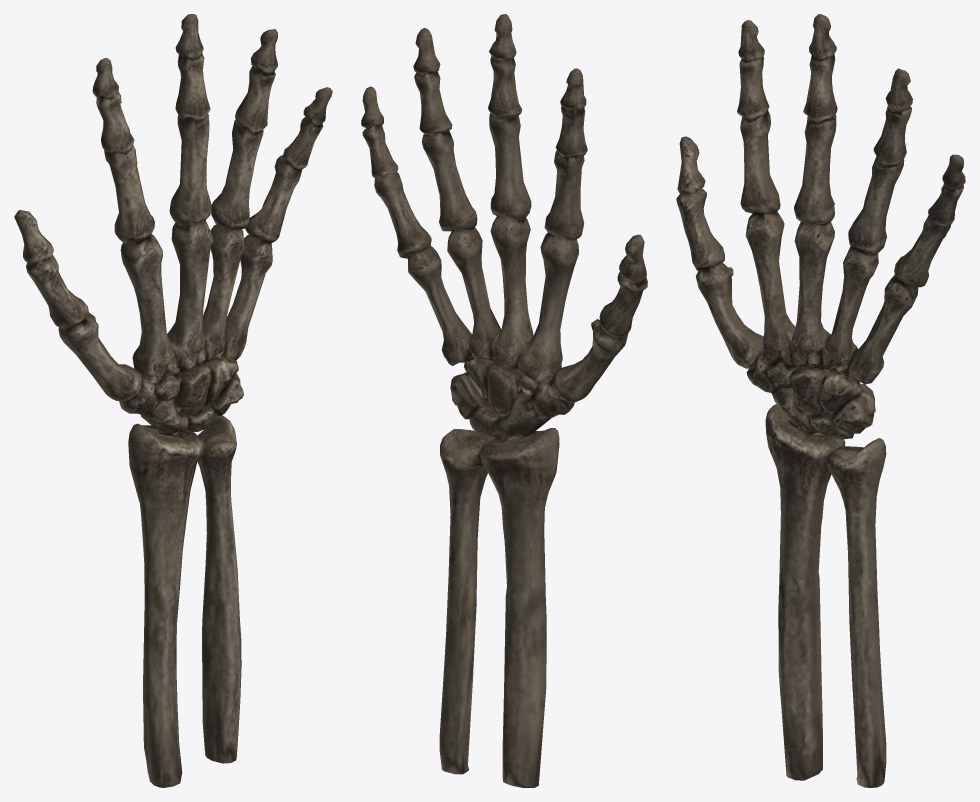
The model's file is hand.glb.
3 views of the same model, side by side, from view 1: azimuth 30°, elevation 25°; view 2: azimuth 150°, elevation 25°; view 3: azimuth 330°, elevation 25° (orthographic).
Bounding box in the file's own units: 0.7754 × 1.9 × 0.1689.
Materials: 1 (1 with a texture image).
